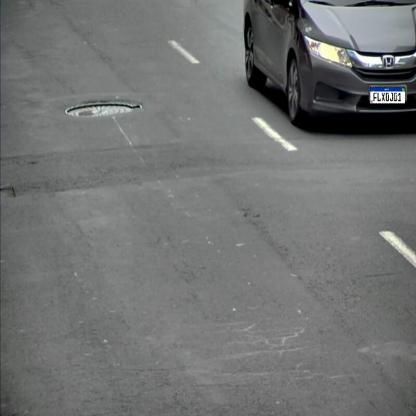PlacaM: (370, 87, 405, 104)
